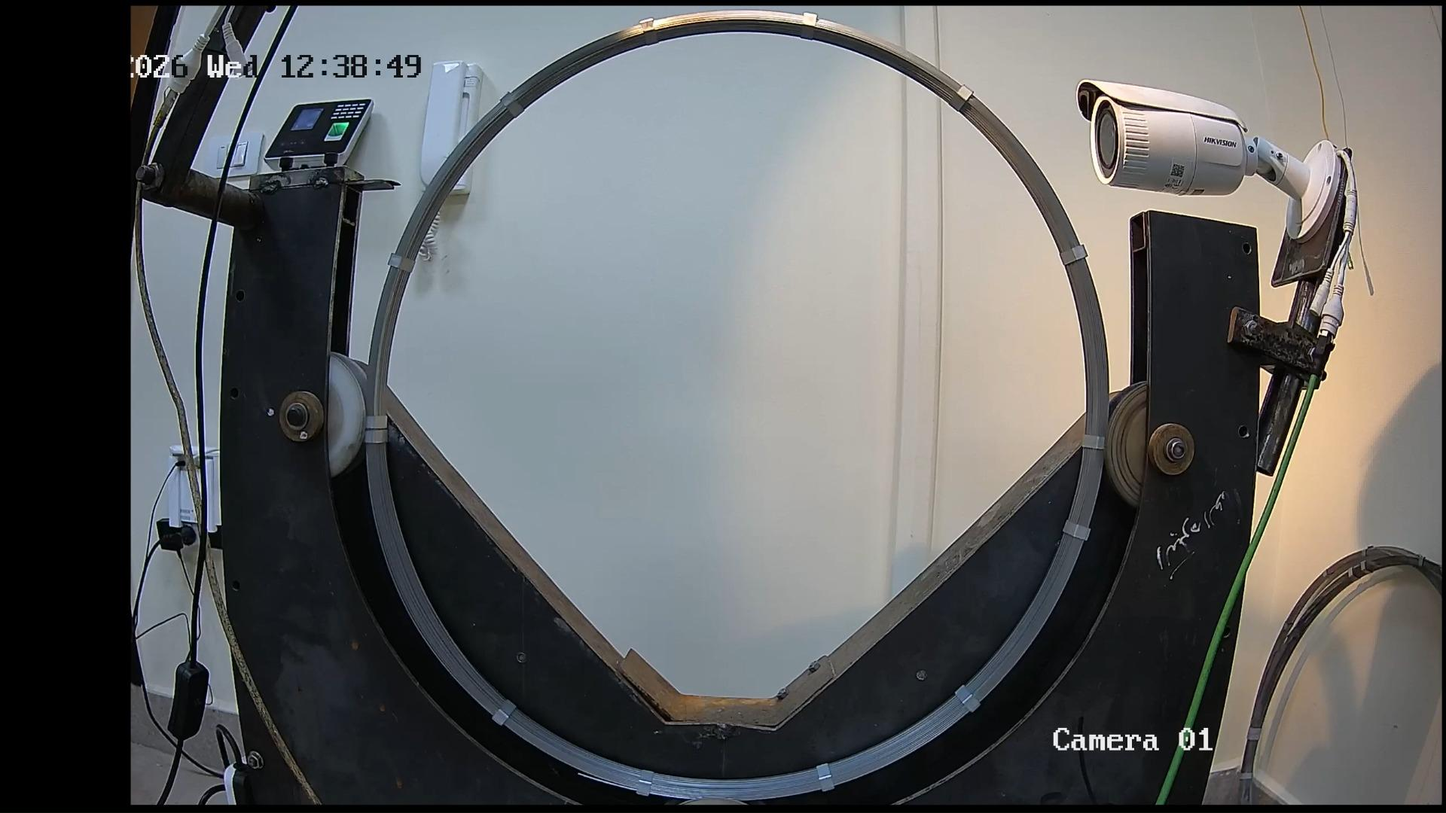Clamp: (956, 684, 979, 711), (1061, 244, 1087, 266), (502, 92, 524, 117), (950, 84, 972, 109), (640, 18, 659, 44), (798, 13, 816, 39), (493, 702, 514, 724), (1066, 522, 1090, 541), (388, 254, 413, 272), (816, 763, 833, 789), (634, 771, 652, 794), (1081, 434, 1104, 447), (365, 416, 387, 428), (365, 431, 387, 443)
